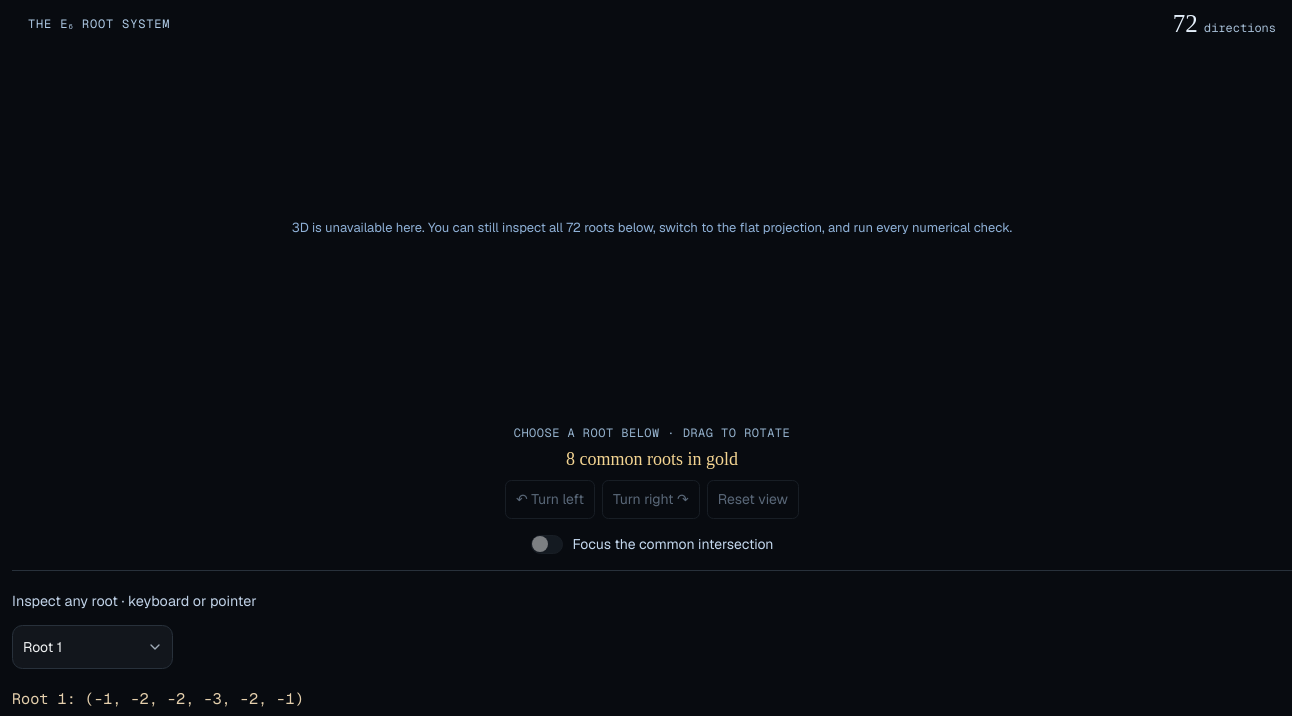
Test: handles a context-loss event and disposes the renderer on unmount
This screenshot has width=1292, height=716.
expect the text "3D is unavailable here" is shown: met, box top-left (292, 219), bottom-right (1012, 236)
expect the button "Reset view" is disabled: met, box top-left (707, 480), bottom-right (799, 519)
Select "Root 72" in the dropdown labelled "Inspect any root · keyboard or pointer" at (92, 647), box top-left (12, 625), bottom-right (173, 669)
(page scrolled)
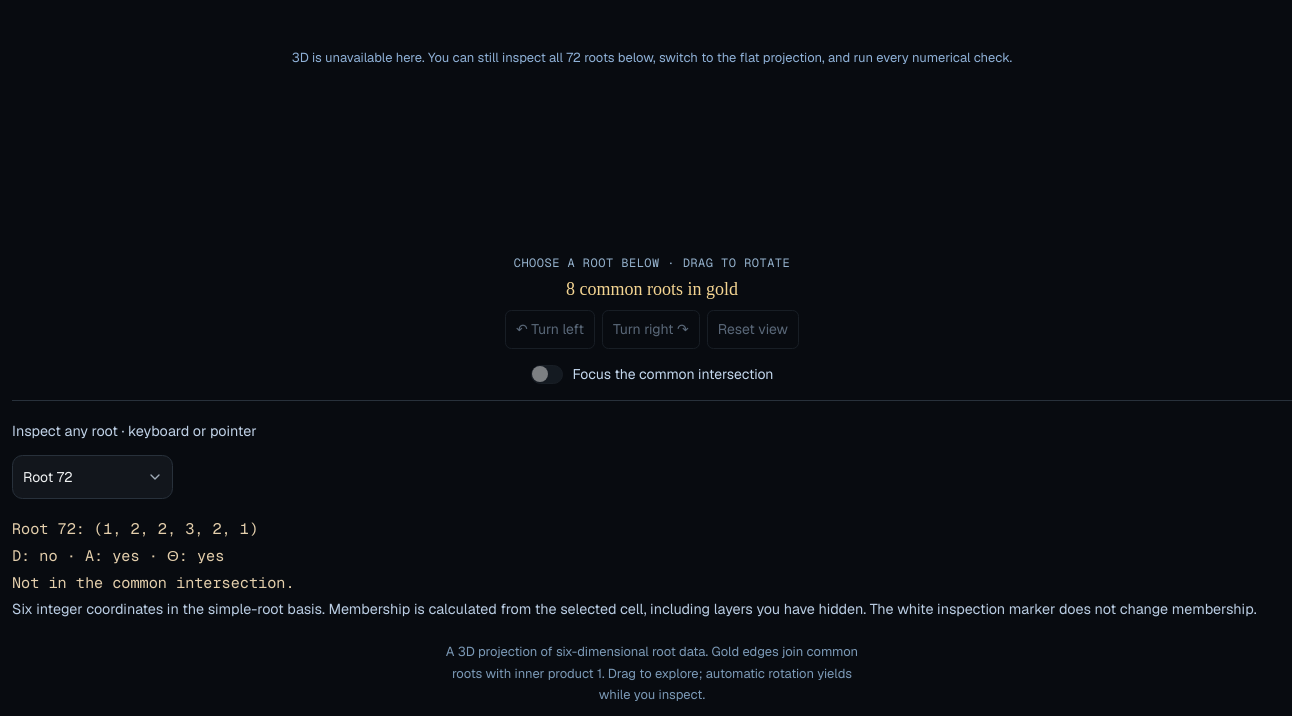
expect the element that starts with "Root" shows "Root 72:": met, box top-left (12, 519), bottom-right (294, 592)
